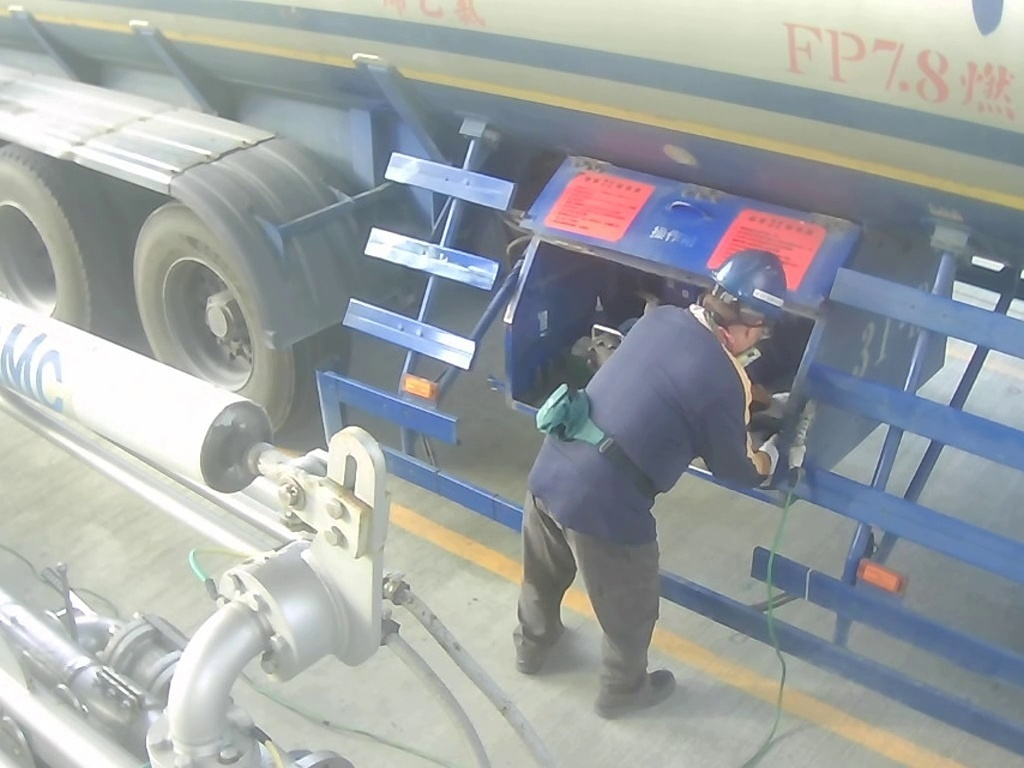helmet: (694, 242, 793, 361)
pack: (531, 381, 606, 447)
person: (499, 246, 808, 725)
